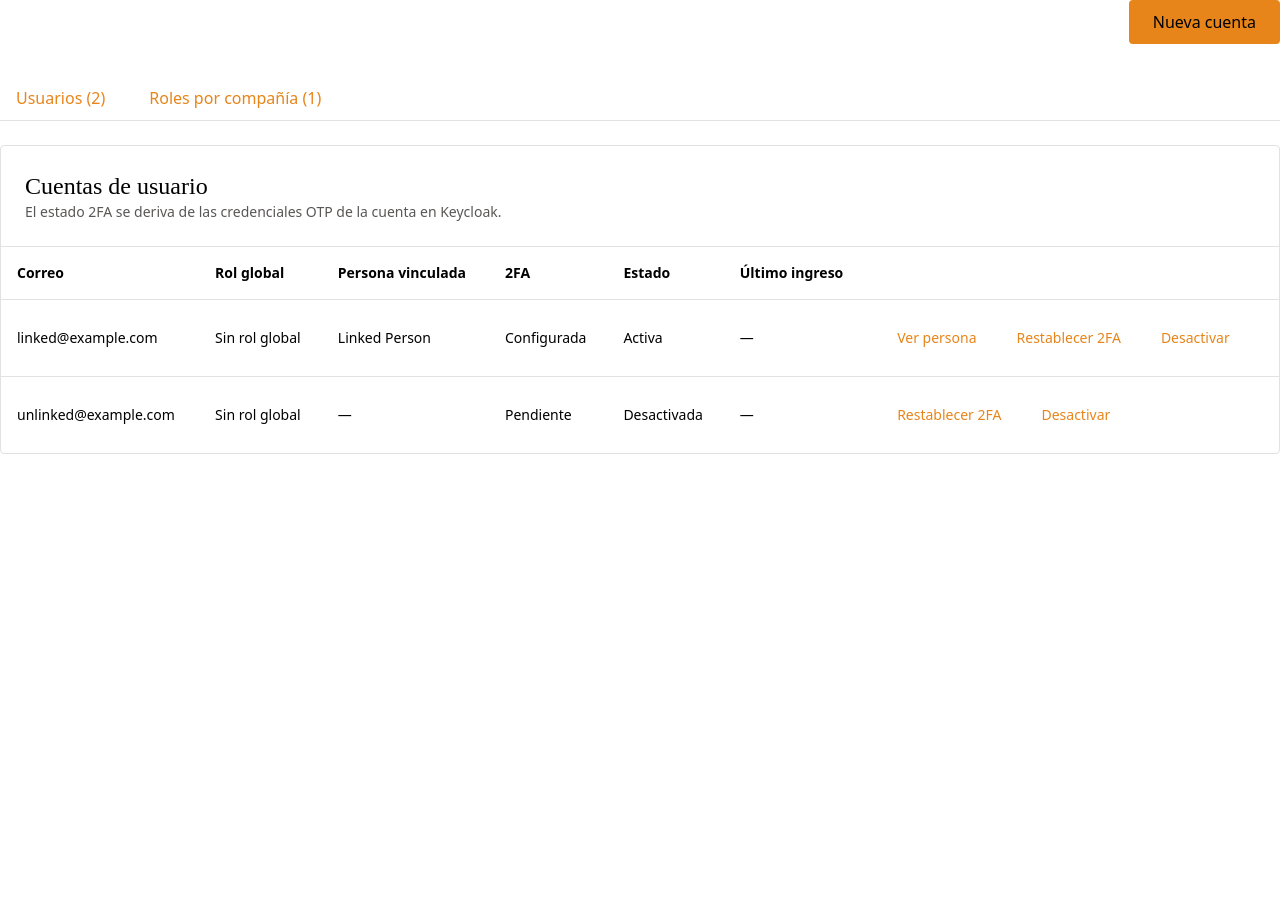
Test: SCR-users-roles › keeps a rejected action dialog open with localized retry feedback
Click the button with test id "btn_disable_account" in the row of "Ver persona".
click(1195, 338)  # box top-left (1145, 316), bottom-right (1246, 360)
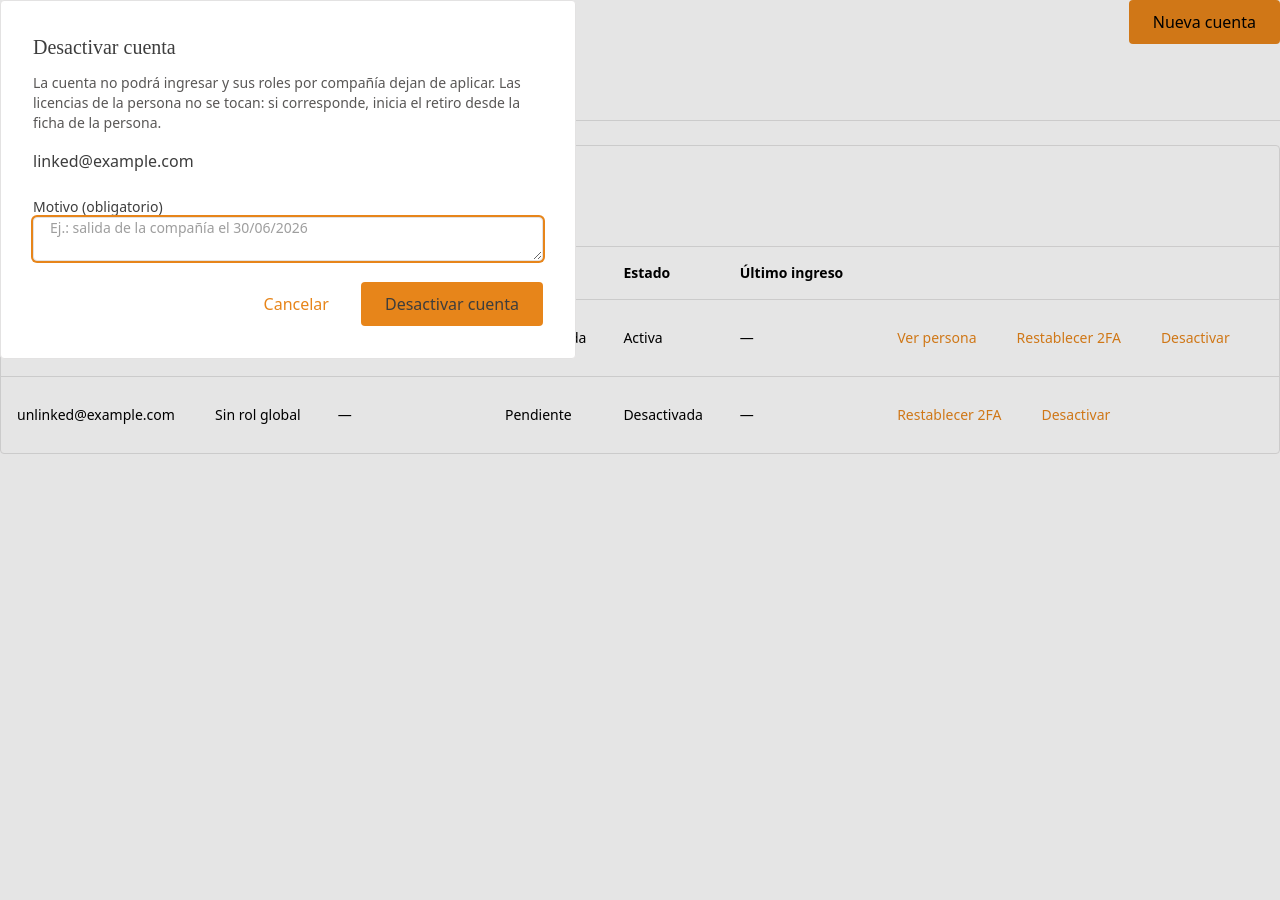
Type "Employment ended" into the text box with test id "disable_note".
click(288, 239); type("Employment ended")  # box top-left (33, 217), bottom-right (543, 261)
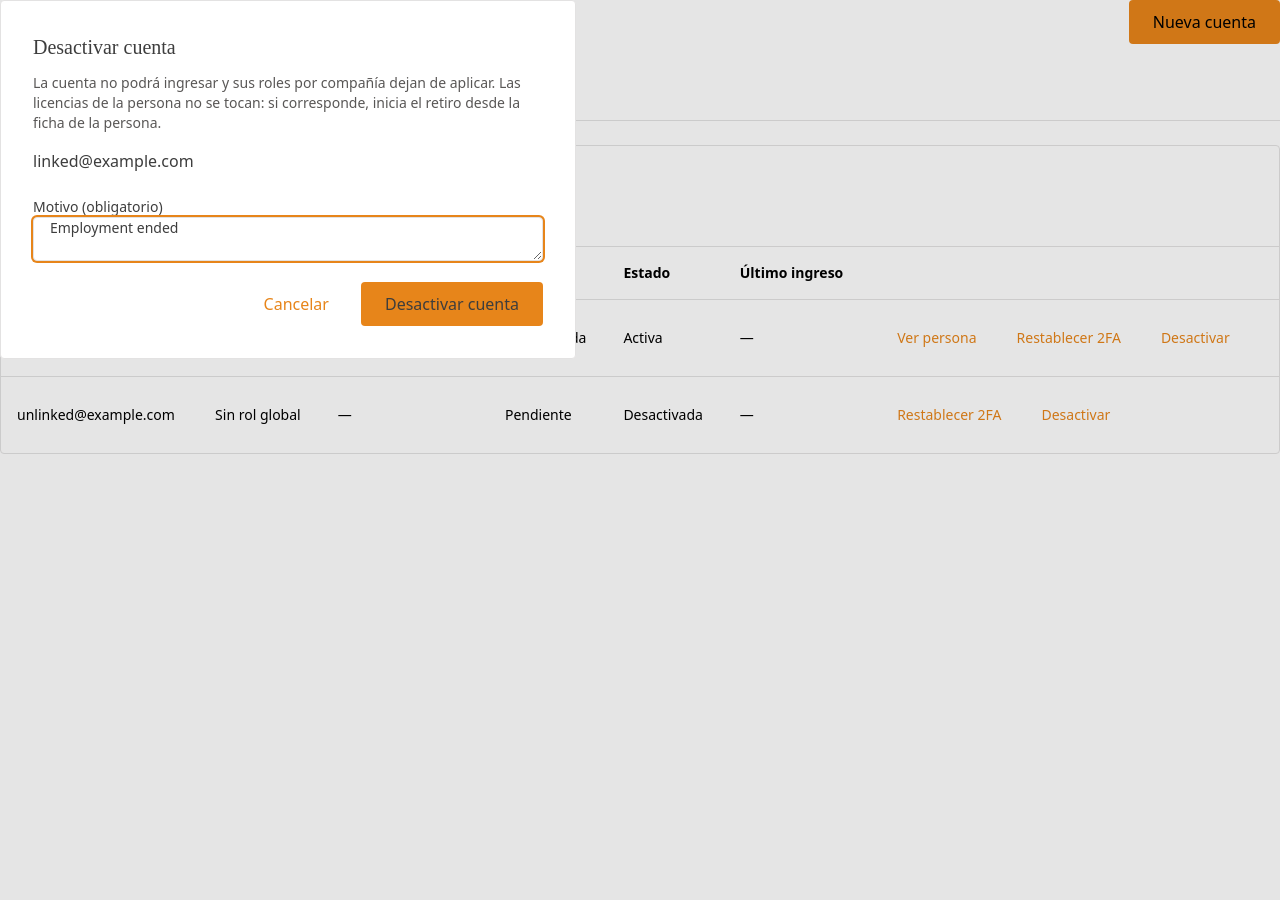
Click the button with test id "btn_confirm_disable".
click(452, 304)  # box top-left (361, 282), bottom-right (543, 326)
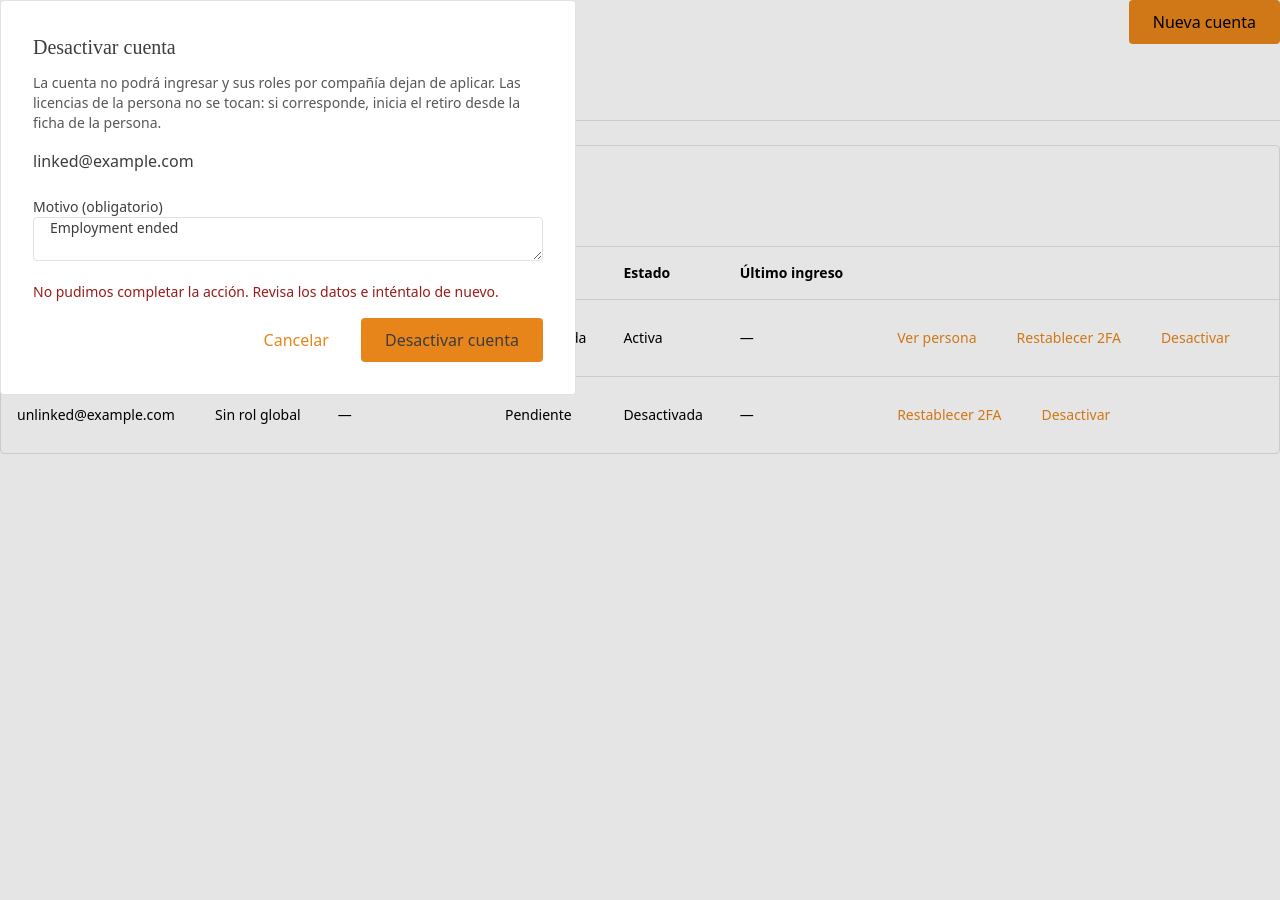
Expected: the button with test id "btn_confirm_disable" is enabled, top-left (361, 318), bottom-right (543, 362)
Expected: the message reads "No pudimos completar la acción. Revisa los datos e inténtalo de nuevo.", top-left (33, 282), bottom-right (499, 301)
